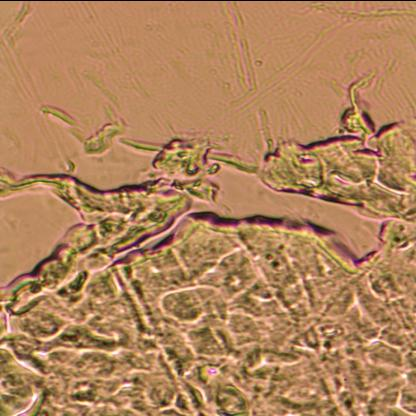Stage II: (1, 119, 413, 416)
